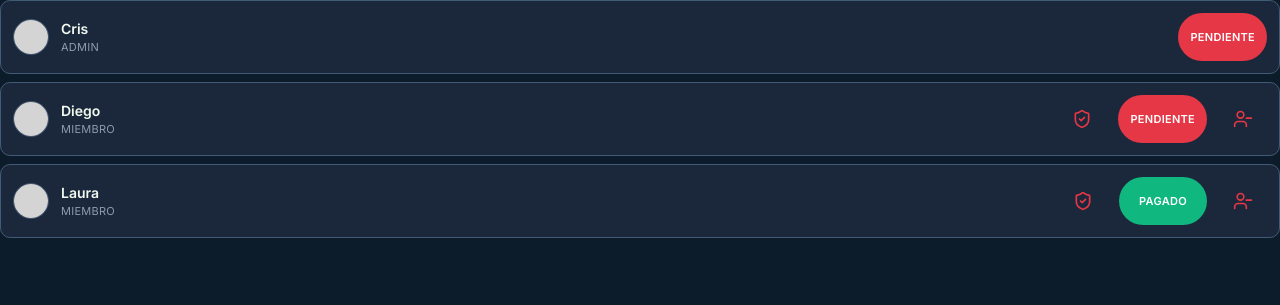
Test: MemberAdminList › muestra el mensaje de error administrativo si la acción falla y revierte el toggle
The image size is (1280, 305).
Click the button with aria-label "Pago de Diego: Pendiente".
click(1163, 119)  # box [1118,95,1207,143]
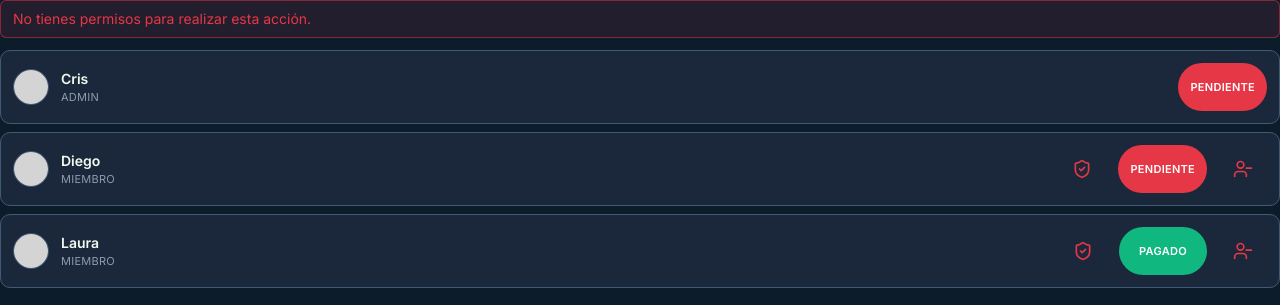
Check: the button with aria-label "Pago de Diego: Pendiente" is shown, box [1118,145,1207,193]
Check: the text "No tienes permisos para realizar esta acción." is shown, box [0,0,1279,38]
